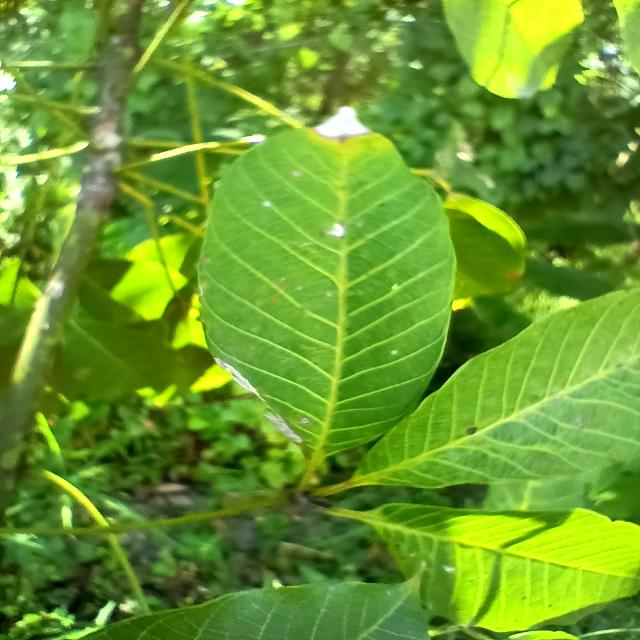Colletotrichum: (466, 426, 476, 436), (300, 418, 310, 424)
Leaf-Blight: (213, 358, 258, 395), (316, 107, 370, 137), (263, 412, 302, 442)
